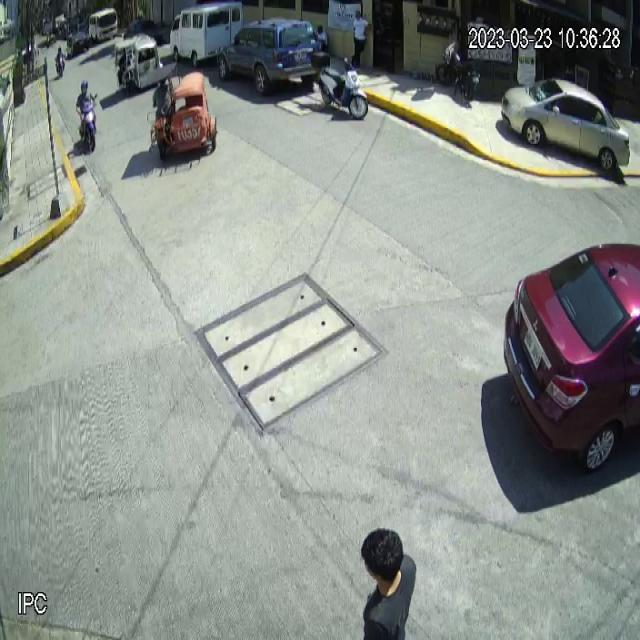Car: (500, 240, 640, 473), (501, 79, 631, 172), (217, 16, 322, 96)
Motorcycle: (311, 52, 369, 121)
Tricycle: (140, 61, 218, 162)
Van: (170, 0, 243, 67)
